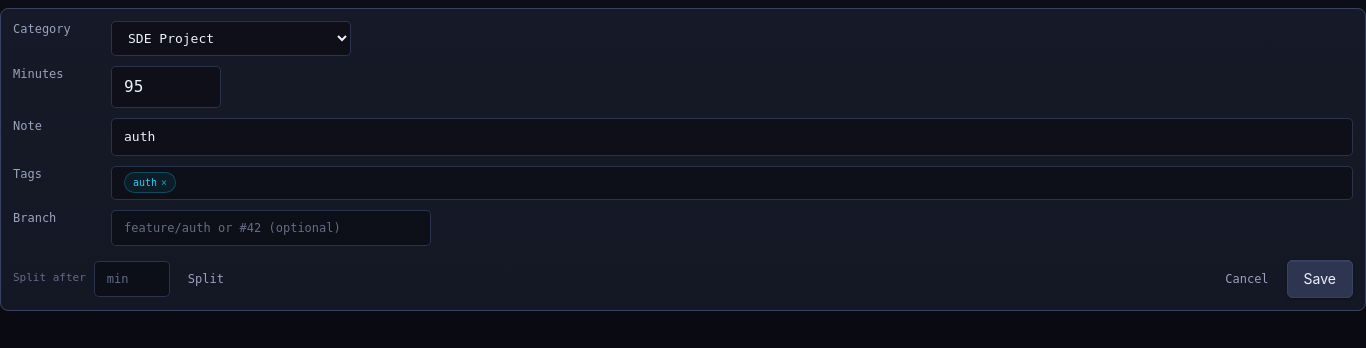
it: SessionEditor › warns before changing a timer session’s minutes
Expected: the text "mark the session as edited" is not shown
Replace the text in the number field labelled "Minutes" with "60" at {"x": 166, "y": 87}, box x1=111 y1=66 x2=221 y2=108
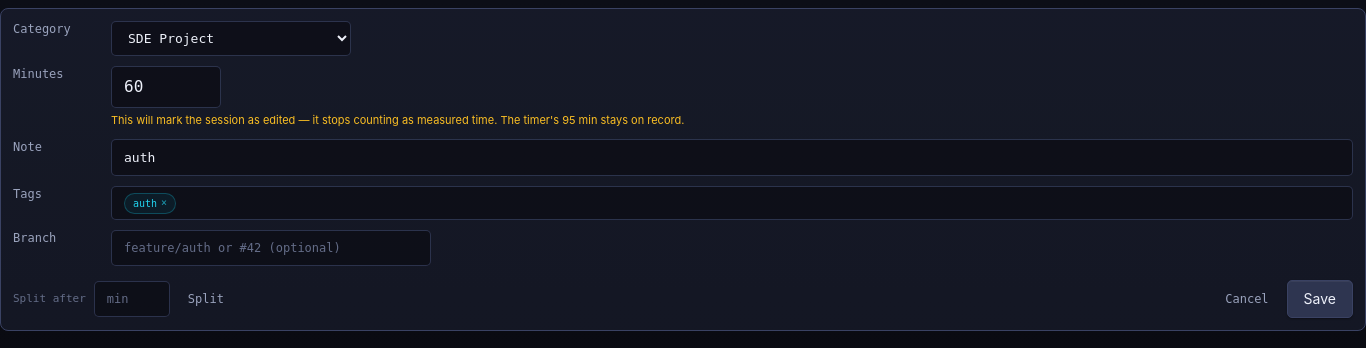
Expected: the text "mark the session as edited" is shown, x1=111 y1=113 x2=562 y2=127
Expected: the text "95 min stays on record" is shown, x1=111 y1=113 x2=684 y2=127
